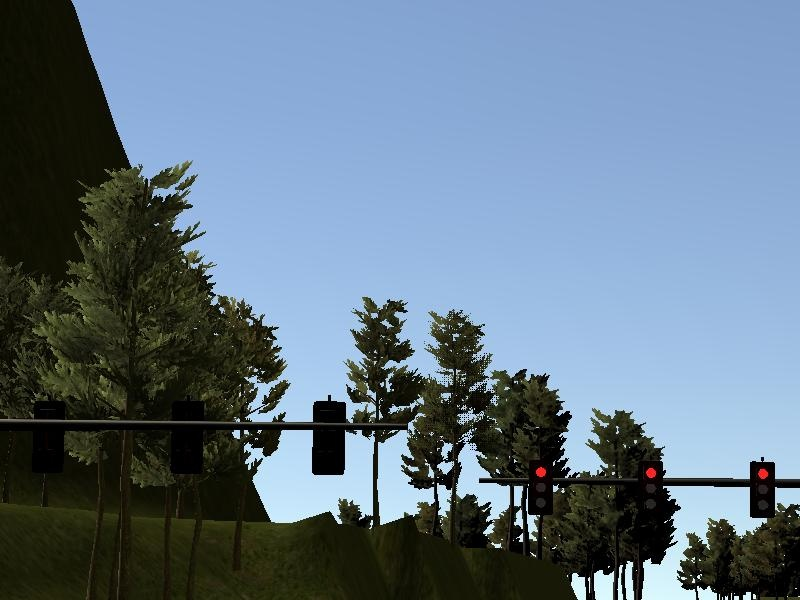traffic_light_red: (513, 460, 797, 518)
